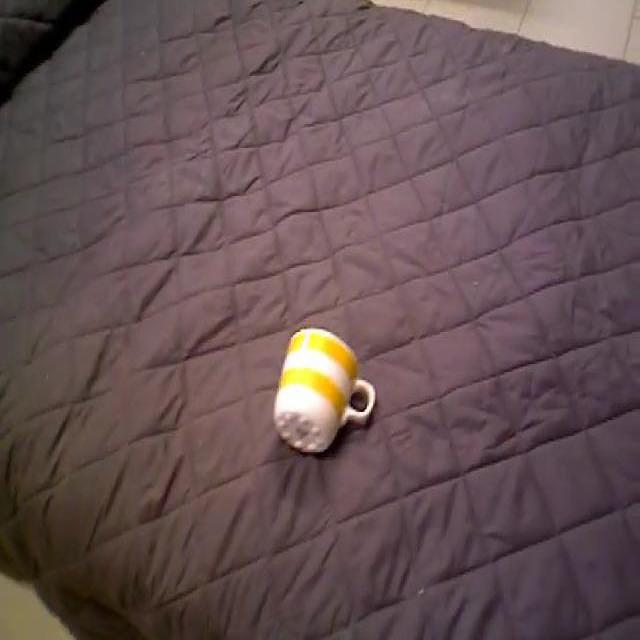cup: (271, 327, 379, 460)
